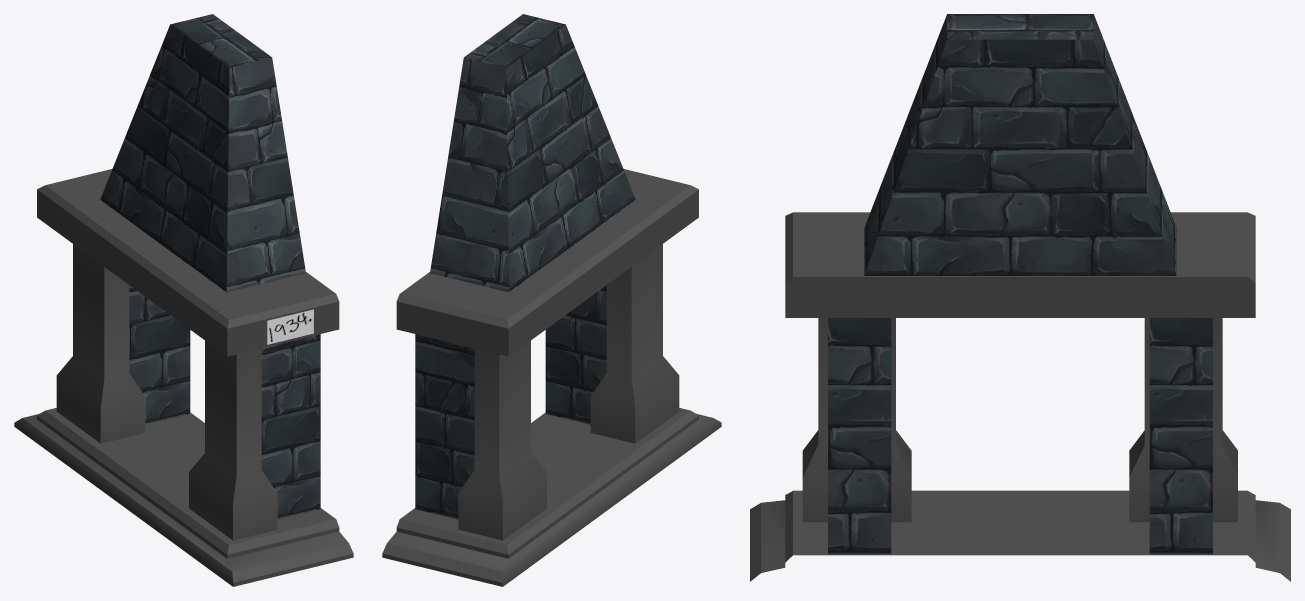
The model's file is obj_fireplace.FBX.
3 renders of one model, left to right at view 1: azimuth 30°, elevation 25°; view 2: azimuth 150°, elevation 25°; view 3: azimuth 270°, elevation 25°, orthographic. The views are drawn at different scales.
Parts seen in each view (by area): view 1: obj_fireplace; view 2: obj_fireplace; view 3: obj_fireplace.
Boxes of the visible parts, <box> form: obj_fireplace: <box>14,14,353,586</box>; obj_fireplace: <box>382,14,721,586</box>; obj_fireplace: <box>750,14,1290,581</box>.
Size of the model in its own units: 24.08 by 84.44 by 75.78.
3 materials, 2 textured.
